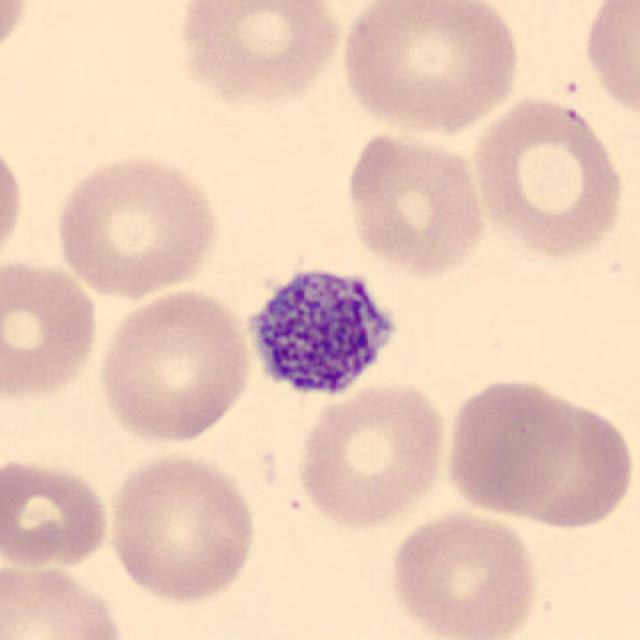Platelets: (237, 250, 407, 411)
RBC: (468, 91, 630, 262), (50, 148, 224, 302), (92, 286, 256, 448), (334, 0, 526, 138), (103, 449, 260, 606), (294, 376, 452, 530), (341, 127, 491, 280), (487, 383, 638, 534), (386, 506, 542, 640), (441, 374, 579, 520), (172, 0, 346, 111), (0, 250, 103, 408), (0, 452, 116, 572), (0, 557, 130, 640), (580, 0, 638, 125), (0, 129, 28, 277), (0, 2, 34, 72)
